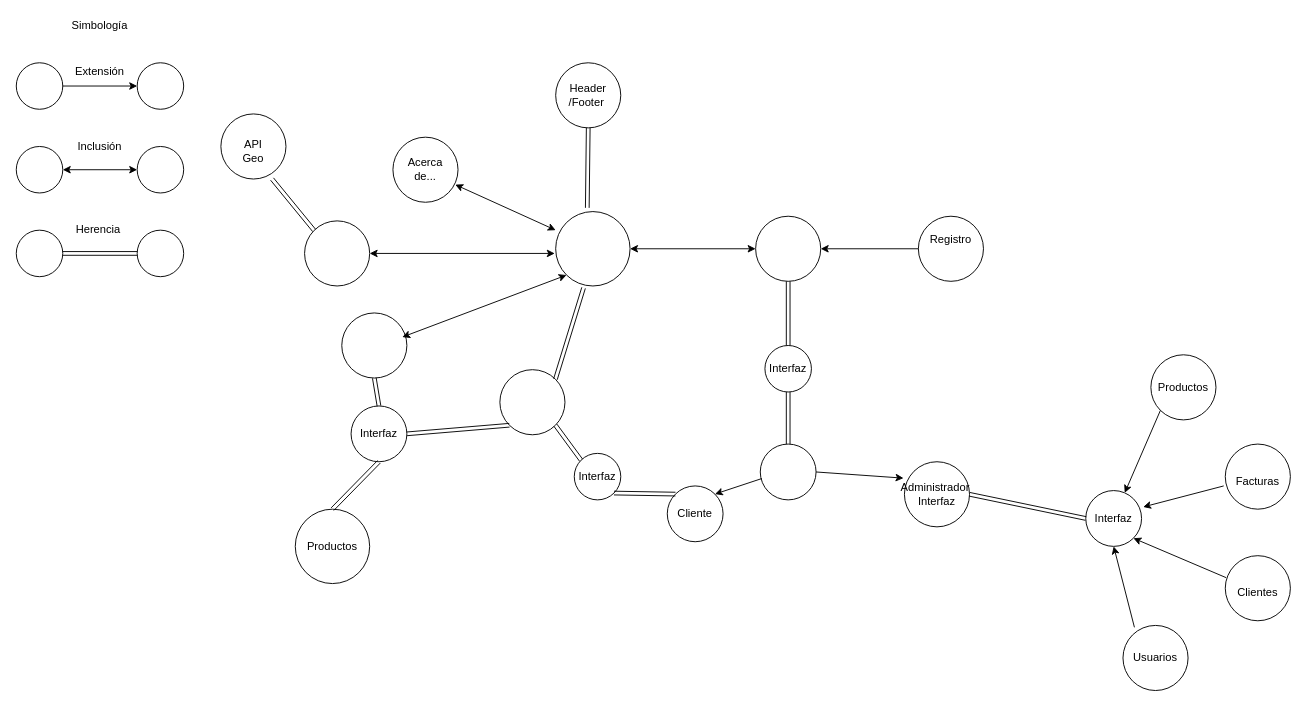
Image size: 1307x707. Some labels were removed from this diagram. The box of each missing label's shape, as (x1, y1, x2, y2) in pixels:
Carrito: (499, 369, 565, 435)
Categorías: (341, 312, 407, 378)
Contacto: (304, 220, 370, 286)
Inicio Sesión: (755, 215, 821, 281)
Página Principal: (555, 211, 630, 286)
Usuario: (759, 443, 816, 500)
